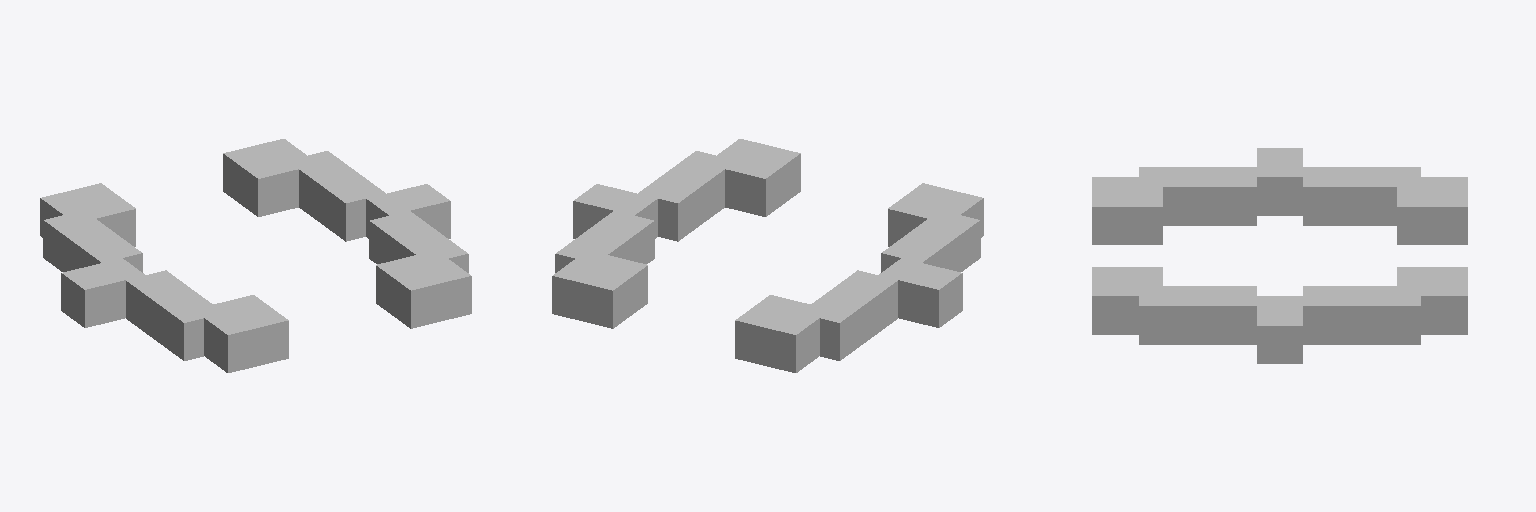
The model's file is Curly.obj.
The picture shows the model from 3 angles: view 1: azimuth 30°, elevation 25°; view 2: azimuth 150°, elevation 25°; view 3: azimuth 270°, elevation 25°; orthographic projection.
Parts seen in each view (by area): view 1: Text; view 2: Text; view 3: Text.
Part boxes in pixels (left/top/right/bottom): Text: left=40, top=139, right=471, bottom=372; Text: left=552, top=139, right=983, bottom=372; Text: left=1092, top=148, right=1467, bottom=363.
Size of the model in its own units: 1 by 0.1 by 0.8889.